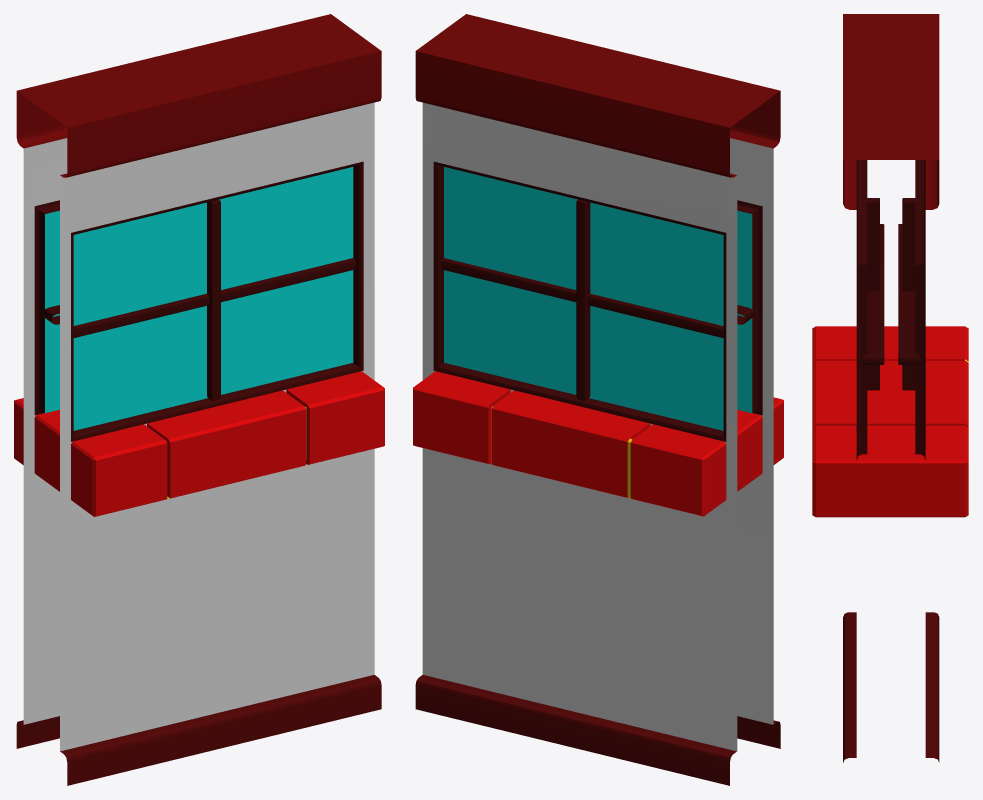
File: SM_MurFenetreRebord.fbx
3 views of the same model, side by side, from view 1: azimuth 30°, elevation 25°; view 2: azimuth 150°, elevation 25°; view 3: azimuth 270°, elevation 25° (orthographic). The views are drawn at different scales.
Parts seen in each view (by area): view 1: Fenetre_Rebort; view 2: Fenetre_Rebort; view 3: Fenetre_Rebort.
Part boxes in pixels (x1,y1,x2,y2): Fenetre_Rebort: (14, 14, 384, 785); Fenetre_Rebort: (413, 14, 783, 785); Fenetre_Rebort: (812, 14, 968, 762).
Bounding box in the file's own units: 100 × 200 × 45.17.
